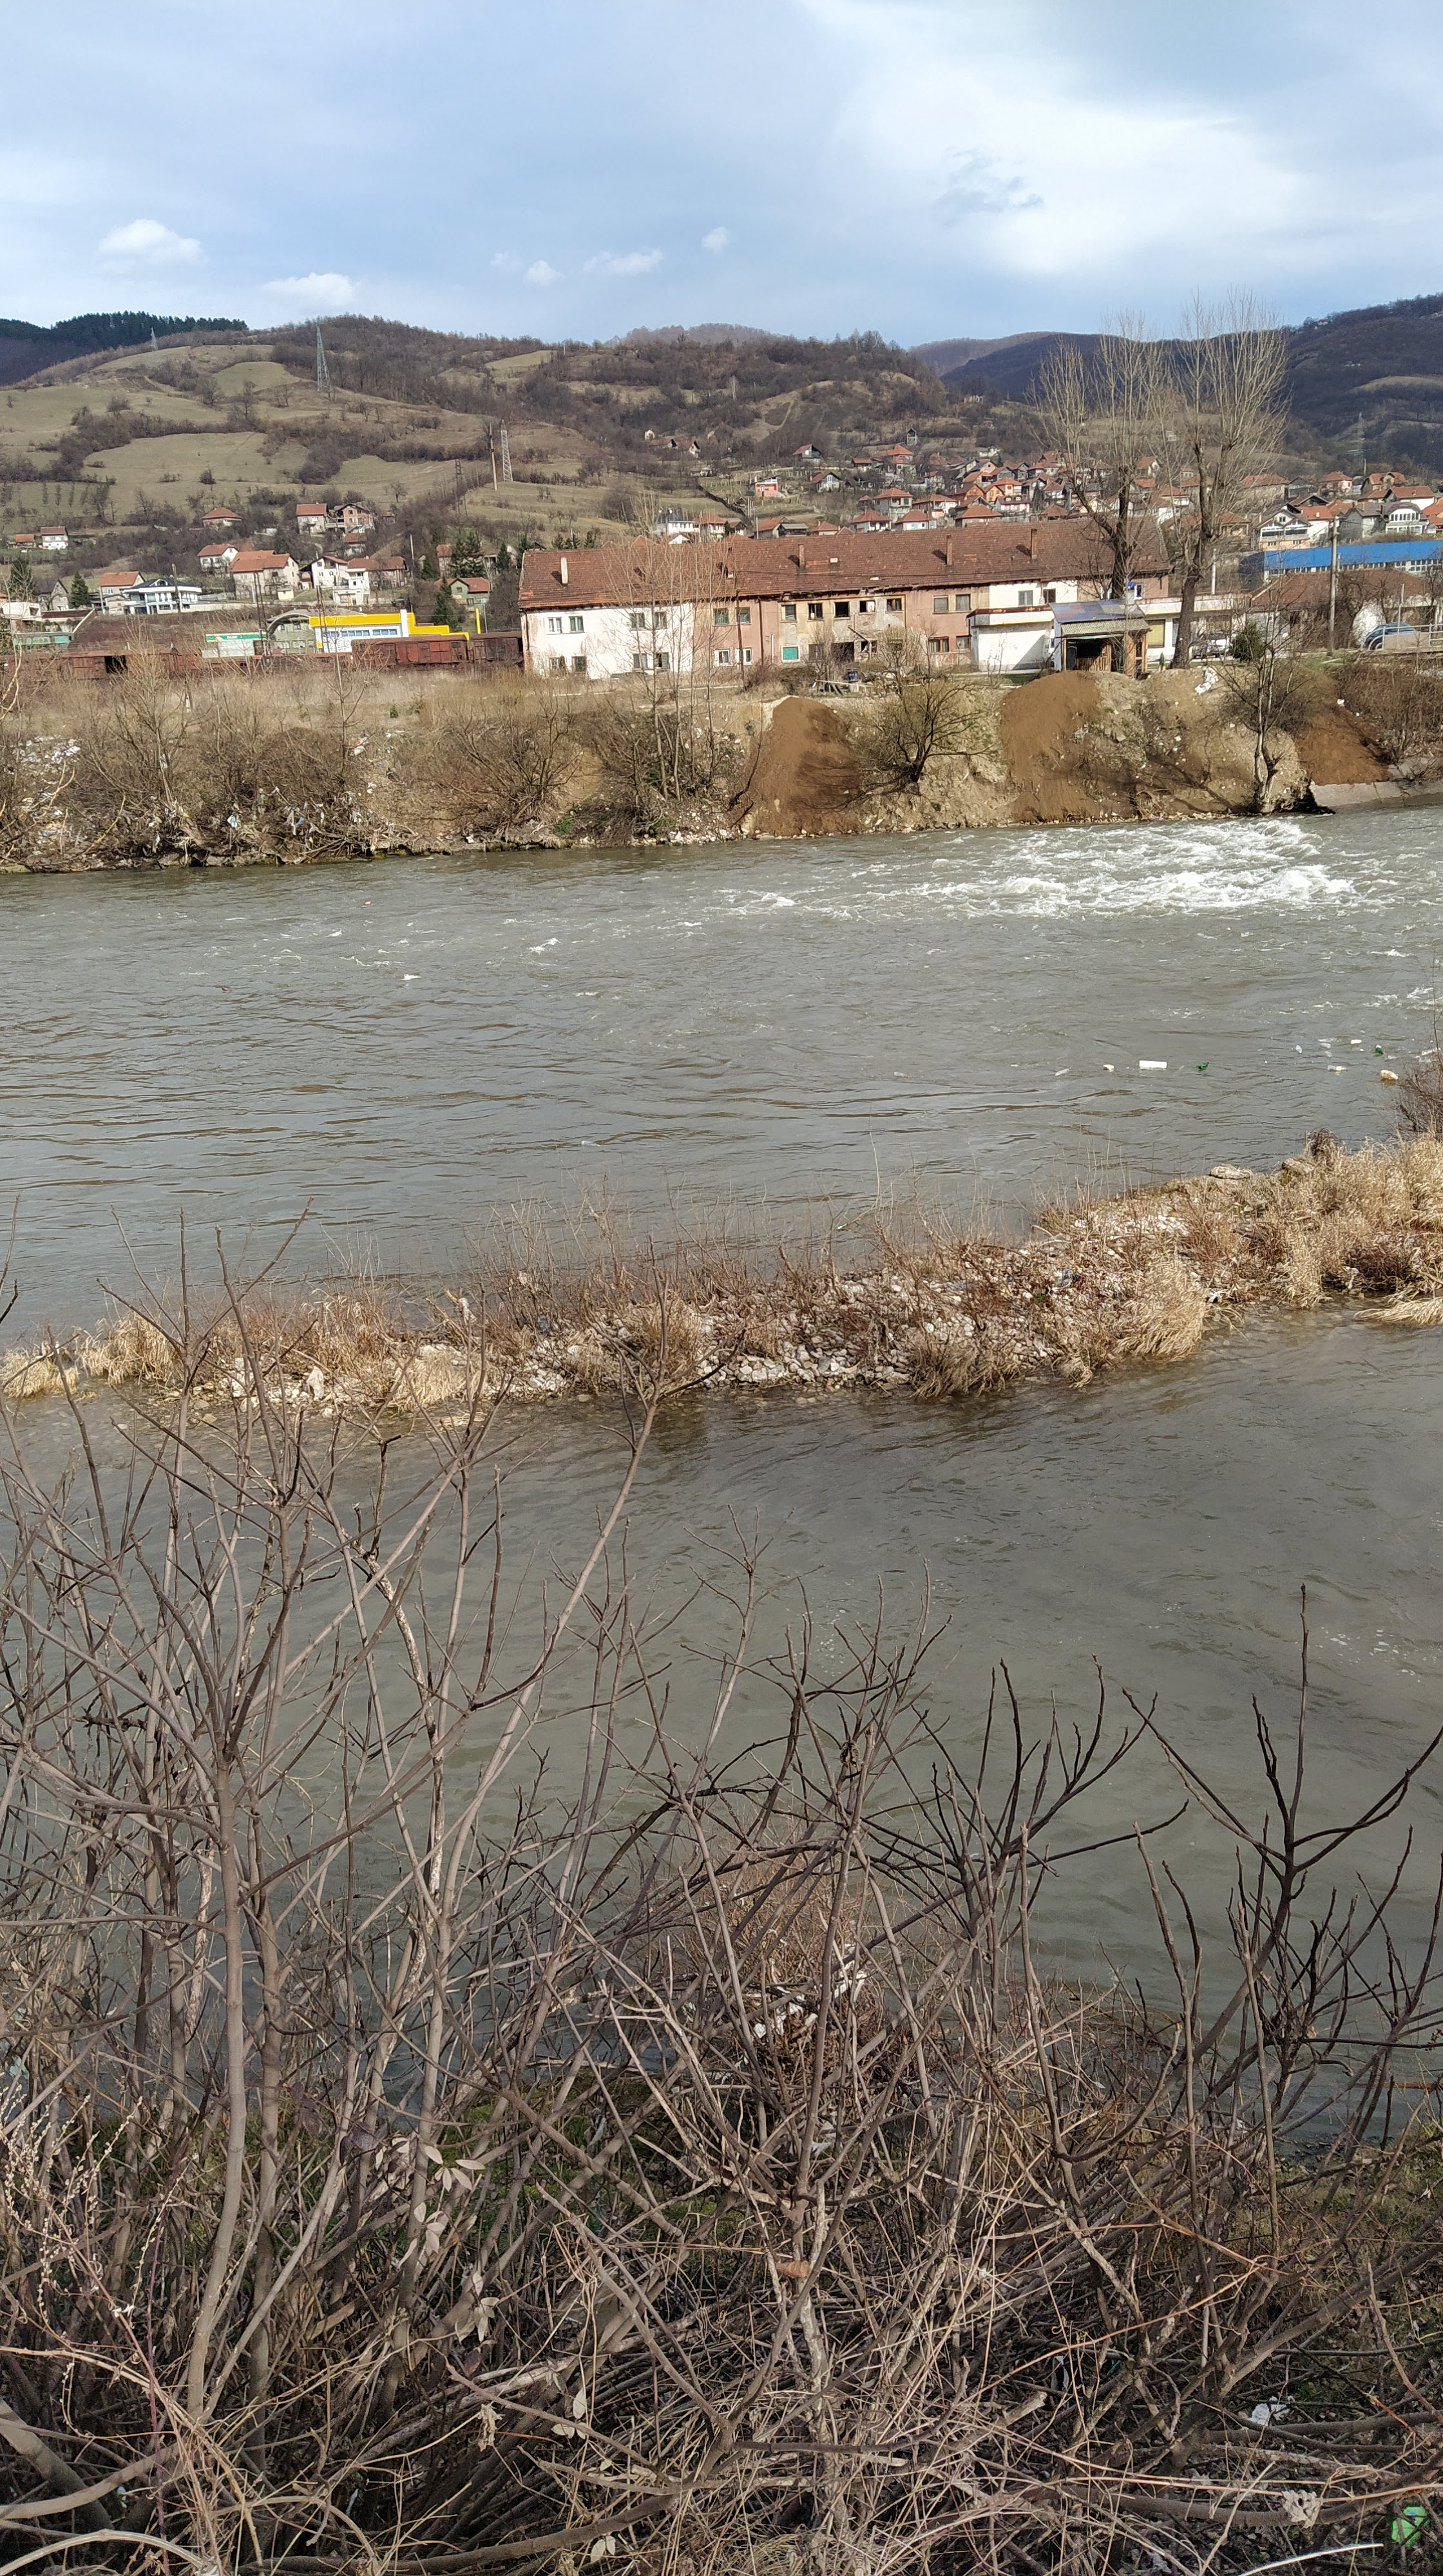Plastic Bottle: (1420, 1046, 1441, 1058), (1381, 1069, 1397, 1079), (459, 1297, 469, 1309), (583, 1139, 598, 1146), (1326, 1065, 1346, 1070), (1055, 1069, 1069, 1076), (1197, 1062, 1209, 1069), (894, 1070, 907, 1077), (1374, 1044, 1383, 1053), (1349, 1039, 1363, 1044), (1319, 1042, 1330, 1049), (1296, 1046, 1303, 1053)
